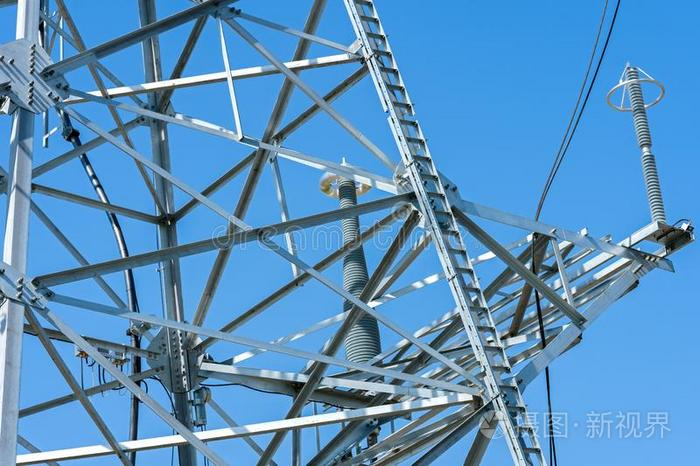insulator: (625, 64, 655, 146), (641, 154, 667, 221)
